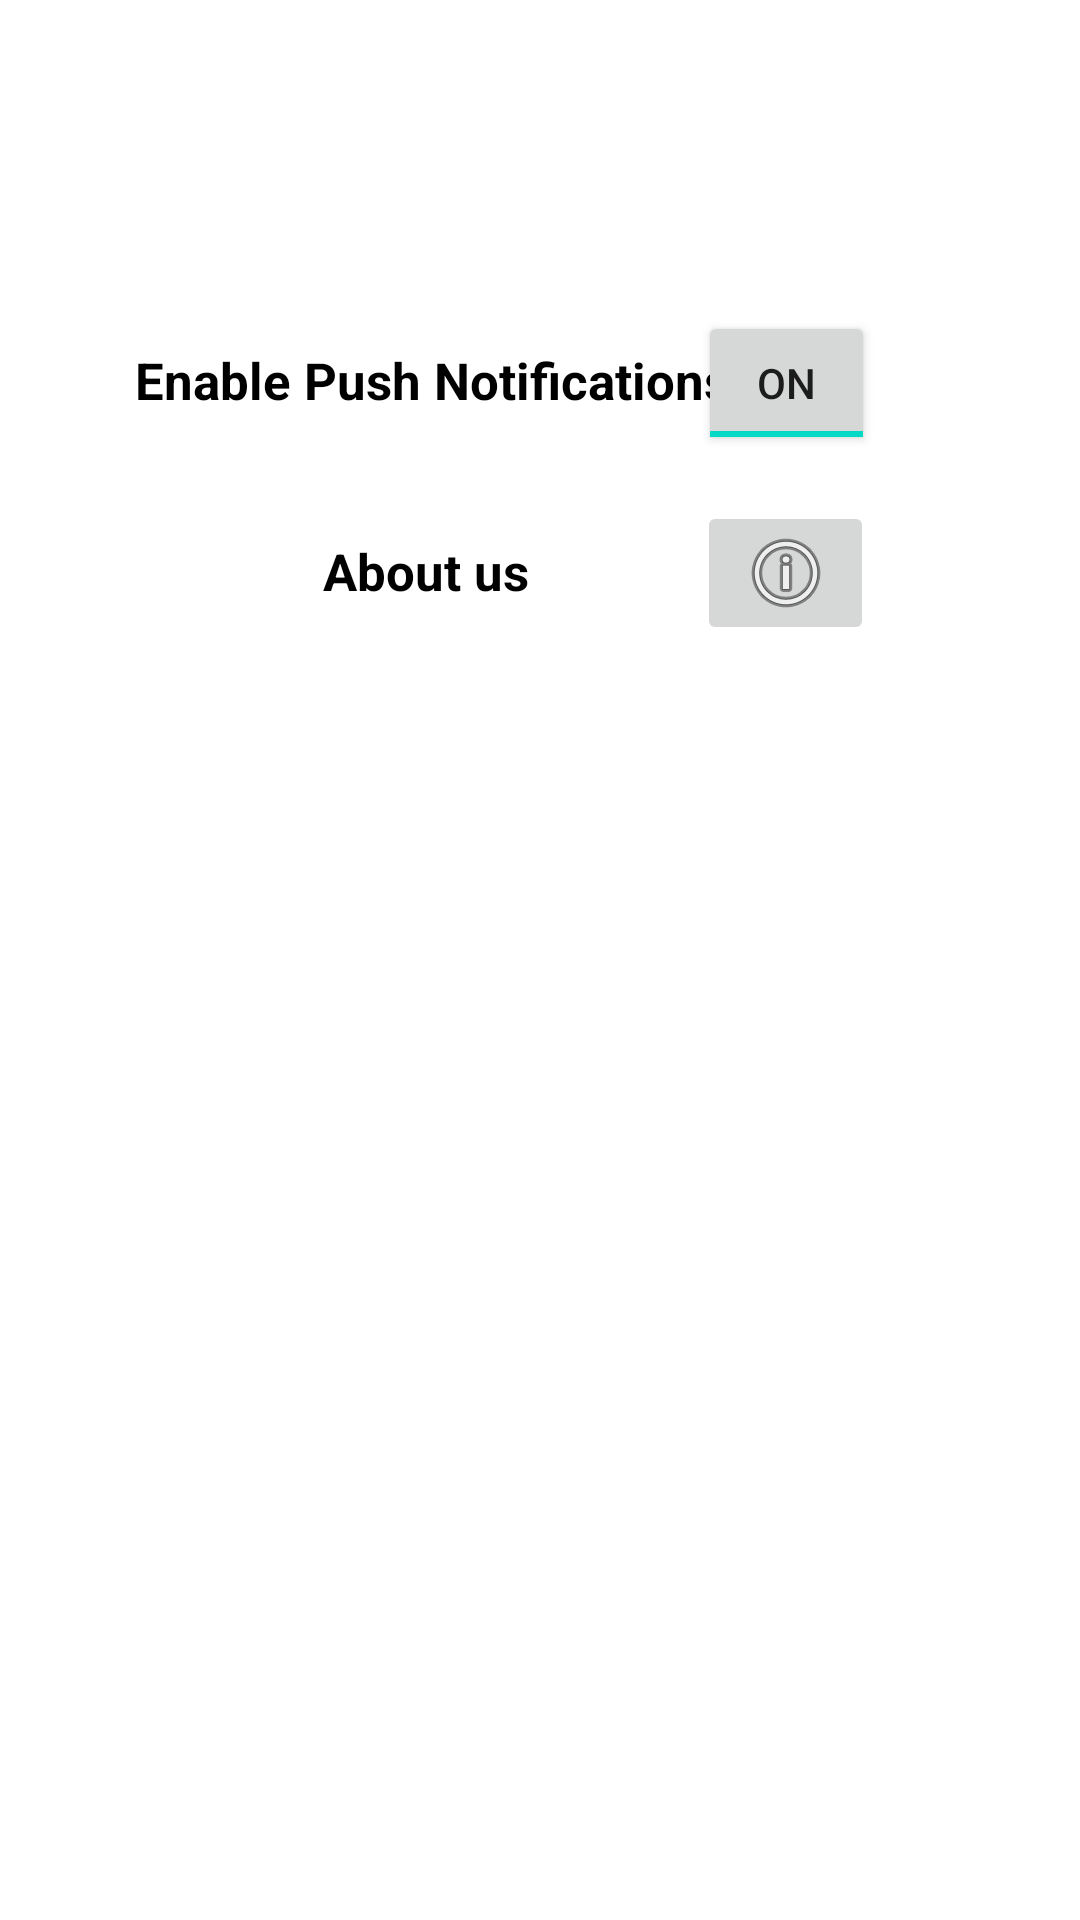

Icon bounding boxes for this 1080px×1920px phone screenshot, format box(x1, y1, x2, y2):
info details: box(709, 519, 862, 627)
